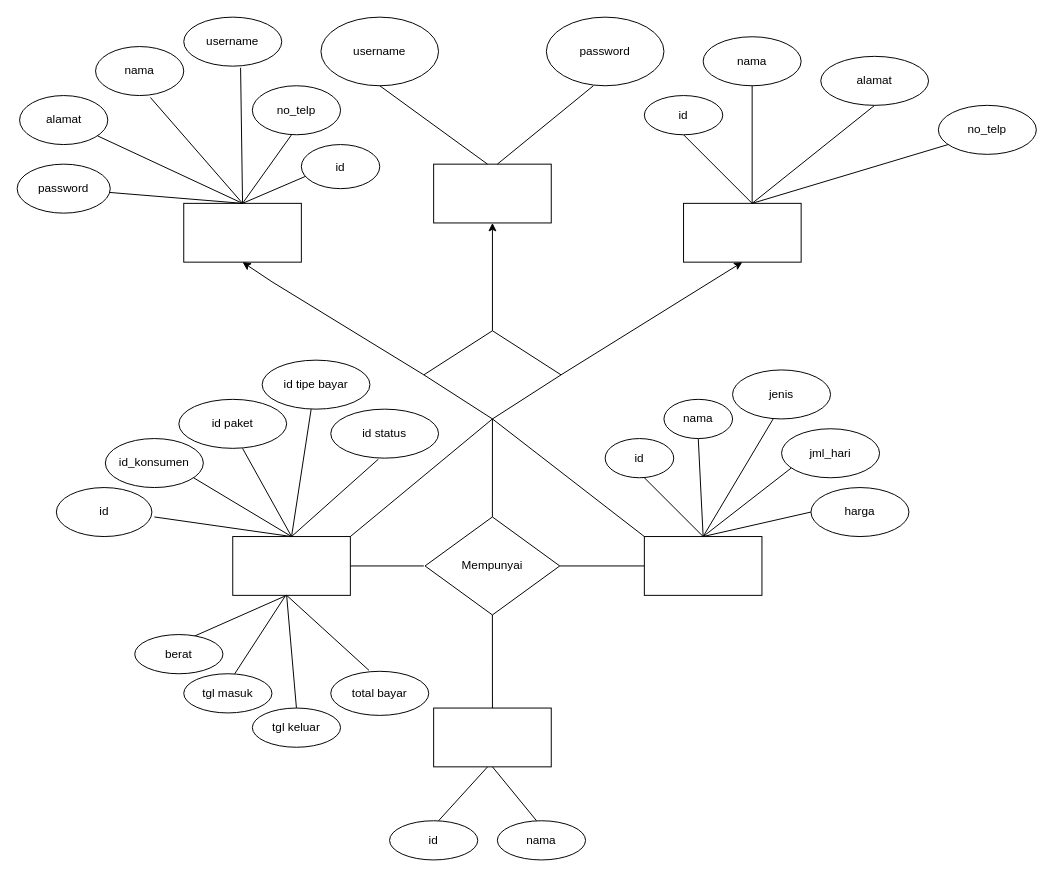
This 1054x877 diagram has some shape labels left out. Each missing label, with the centre of its shape:
ADMIN: point 492,193
KARYAWAN: point 242,232
KONSUMEN: point 742,232
Mengelola: point 492,374
PAKET: point 702,565
TIPE BAYAR: point 492,737
TRANSAKSI: point 291,565
